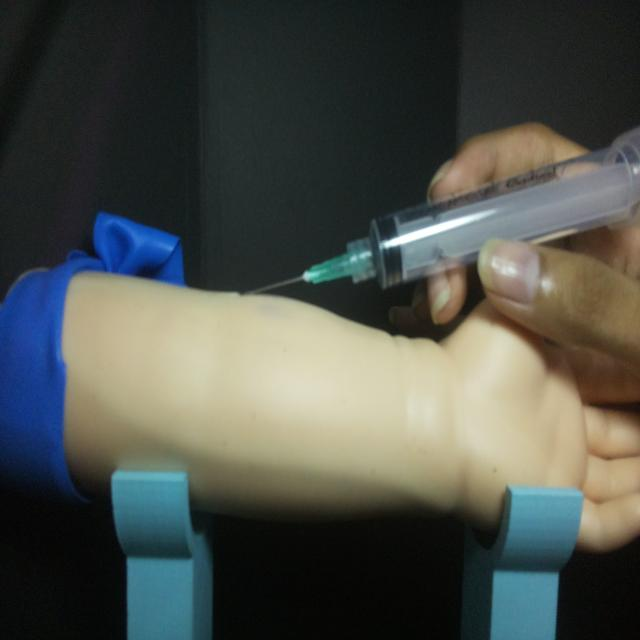19deg: (242, 123, 638, 301)
